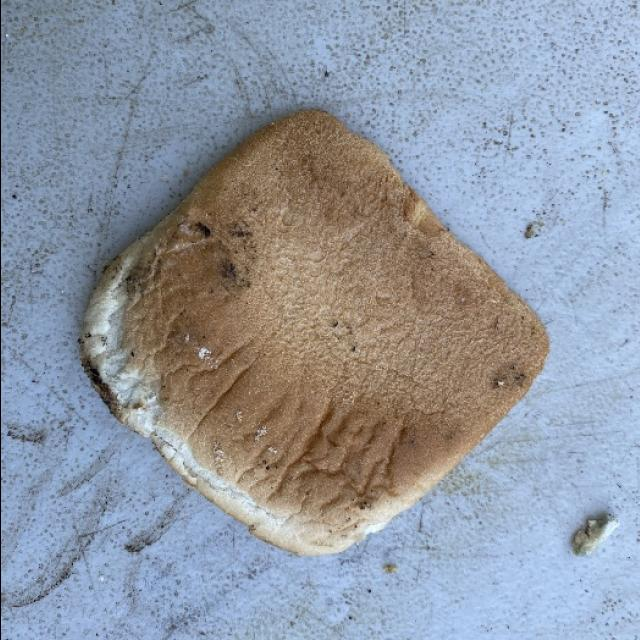organik: (68, 100, 548, 550)
